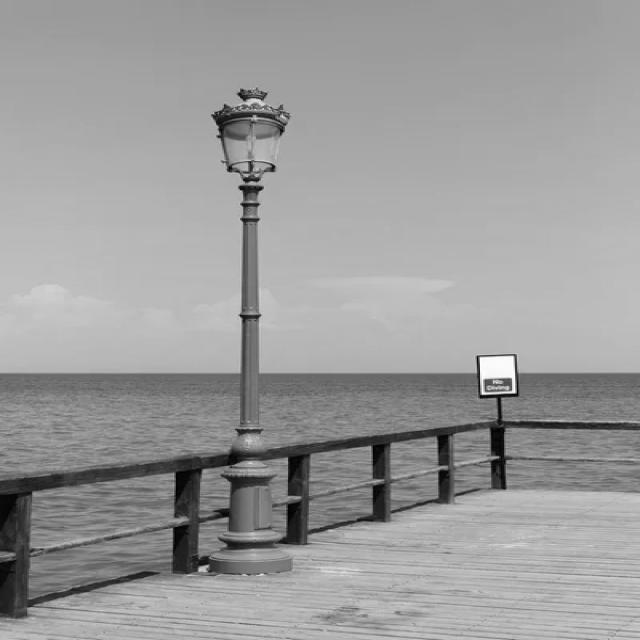Pole: (208, 88, 291, 574)
